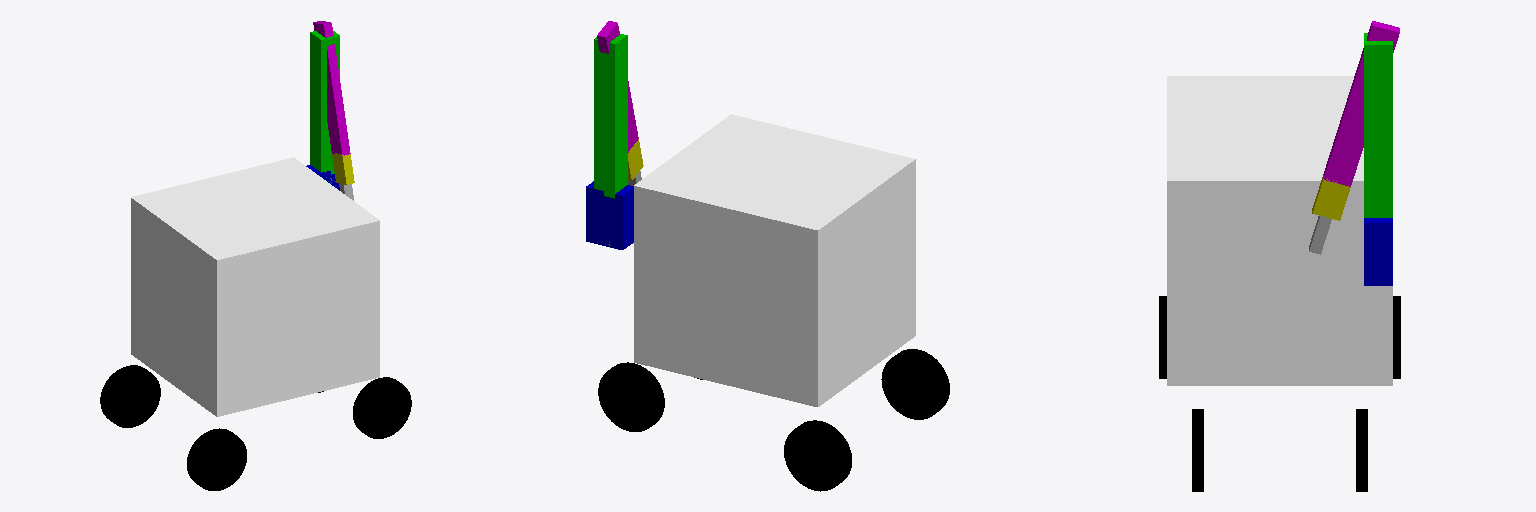
The robot description file, URDF, robot "Base_arm":
<?xml version="1.0"?>
<robot name="Base_arm">

  <!-- We want to use the ROS conventions in the URDF. -->
  <!-- Hence x faces forward; y faces to the left; z faces upwards.  -->

  <!-- OLD DIMENSION VALUES -->
  <!-- Lea dimentions: xbase=0.55 ybase= 0.428 zbase=~0.932 -->
  <!-- Lea positions from center base: x=0 y=0 z=rweel+zbase/2=0.666  -->

  <!-- Lea wheel dimentions: rwheel=0.20 twheel=~0.04 rcwheel=0.2 twheel=~0.03 -->

  <!-- Lea wheel positions from center base: xwheel=0.275 ywheel=0.214 zwheel=rwheel=0.20  -->
  <!-- Lea custerwheel positions from center base: xcwheel=0.203 ycwheel=-0.214 zcwheel=rwheel=0.20  -->

  <!-- Note: The base_link frame is on the ground between the wheels -->

  <!-- MAIN LINK FRAME -->
  <link name="base_link">
    <origin xyz="0.000 0.000 0.000" rpy="0.000 0.000 0.000"/>
  </link>

  <!-- MID WHEELS LINK FRAME  -->
  <link name="mid_wheels_virtual_link">
    <origin xyz="0.000 0.000 0.000" rpy="0.000 0.000 0.000"/>
  </link>

  <!-- VIRTUAL JOINT BASE_LINK TO MID_WHEELS -->
  <joint name="base_link_to_mid_wheels_virtual_link" type="fixed">
    <axis xyz="0 0 0" rpy="0 0 0"/>
    <parent link="base_link"/>
    <child link="mid_wheels_virtual_link"/>
    <origin xyz="0.000 0.000 0.1" rpy="0.000 0.000 0.000"/>
    <!-- Increasing height by 0.15 i.e. 0.275+0.15  so that the wheels and the body does not intersect -->
  </joint>

  <!-- MAIN BODY -->
  <link name="main_body">
    <visual>
      <origin xyz="0.000 0.000 0.000" rpy="0.000 0.000 0.000"/>
      <geometry>
        <box size="0.6 0.55 0.55"/>
      </geometry>
      <material name="white">
        <color rgba="1 1 1 1"/>
     </material>
    </visual>
  </link>

  <!-- VIRTUAL JOINT MID_WHEELS TO BODY -->
  <joint name="mid_wheels_virtual_link_to_body" type="fixed">
    <axis xyz="1 0 0" rpy="0 0 0"/>
    <parent link="mid_wheels_virtual_link"/>
    <child link="main_body"/>
    <origin xyz="0.3 0.000 0.425" rpy="0.000 0.000 0.000"/>
    <!-- Increasing height by 0.15 i.e. 0.275+0.15  so that the wheels and the body does not intersect -->
  </joint>

  <!-- REAR WHEELS -->

  <!-- REAR LEFT WHEEL -->
  <link name="rear_left_wheel">
    <visual>
      <origin xyz="0.000 0.000 0.000" rpy="1.57079632679 0.000 0.000"/>
      <geometry>
        <cylinder radius="0.1" length="0.04"/>
      </geometry>
      <material name="black">
        <color rgba="0 0 0 1"/>
      </material>
    </visual>
  </link>

  <!-- REAR RIGHT WHEEL -->
  <link name="rear_right_wheel">
    <visual>
      <origin xyz="0.000 0.000 0.000" rpy="1.57079632679 0.000 0.000"/>
      <geometry>
        <cylinder radius="0.1" length="0.04"/>
      </geometry>
      <material name="black">
        <color rgba="0 0 0 1"/>
      </material>
    </visual>
  </link>

  <!-- REAR WHEEL JOINTS -->

  <!-- LEFT WHEEL JOINT -->
  <joint name="rear_left_wheel_joint" type="continuous">
    <!-- the wheel axis is the z axis -->
    <axis xyz="0 1 0" rpy="0 0 0"/>
    <parent link="mid_wheels_virtual_link"/>
    <child link="rear_left_wheel"/>
    <origin xyz="0.000 0.275 0.000" rpy="0.000 0.000 0.000"/>
  </joint>


  <!-- RIGHT WHEEL JOINT -->
  <joint name="rear_right_wheel_joint" type="continuous">
    <!-- the wheel axis is the z axis -->
    <axis xyz="0 1 0" rpy="0 0 0"/>
    <parent link="mid_wheels_virtual_link"/>
    <child link="rear_right_wheel"/>
    <origin xyz="0.000 -0.275 0.000" rpy="0.000 0.000 0.000"/>
  </joint>

  <!-- CASTER VIRTUAL LINKS -->

  <!-- CASTER VIRTUAL LEFT LINK -->
  <link name="caster_left_virtual_link">
    <visual>
      <origin xyz="0.0 0.0 0.0" rpy="0 0 0"/>
      <geometry>
        <box size="0.001 0.001 0.001"/>
      </geometry>
    </visual>
  </link>

  <!-- CASTER VIRTUAL RIGHT LINK -->
  <link name="caster_right_virtual_link">
    <visual>
      <origin xyz="0.0 0.0 0.0" rpy="0 0 0"/>
      <geometry>
        <box size="0.001 0.001 0.001"/>
      </geometry>
    </visual>
  </link>

  <!-- CASTER VIRTUAL JOINTS -->

  <!-- LEFT -->
  <joint name="caster_left_virtual_link_joint" type="continuous">
    <axis xyz="0 0 1" rpy="0 0 0"/>
    <parent link="mid_wheels_virtual_link"/>
    <child link="caster_left_virtual_link"/>
    <origin xyz="0.600 0.2 0.000 " rpy="0 0 0"/>
  </joint>

  <!-- RIGHT -->
  <joint name="caster_right_virtual_link_joint" type="continuous">
    <axis xyz="0 0 1" rpy="0 0 0"/>
    <parent link="mid_wheels_virtual_link"/>
    <child link="caster_right_virtual_link"/>
    <origin xyz="0.600 -0.2 0.000 " rpy="0 0 0"/>
  </joint>

  <!-- CASTER WHEELS -->

  <!-- CASTER LEFT WHEEL -->
  <link name="caster_left_wheel">
    <visual>
      <origin xyz="0.0 0.000 0.000" rpy="1.57079632679 0.000 0.000"/>
      <geometry>
        <cylinder radius="0.1" length="0.03"/>
      </geometry>
      <material name="black">
        <color rgba="0 0 0 1"/>
      </material>
    </visual>
  </link>

  <!-- CASTER RIGHT WHEEL -->
  <link name="caster_right_wheel">
    <visual>
      <origin xyz="0.00 0.000 0.000" rpy="1.57079632679 0.000 0.000"/>
      <geometry>
        <cylinder radius="0.1" length="0.03"/>
      </geometry>
      <material name="black">
        <color rgba="0 0 0 1"/>
      </material>
    </visual>
  </link>

  <!-- CASTER WHEEL JOINTS -->

  <!-- LEFT -->
  <joint name="caster_left_wheel_joint" type="continuous">
    <axis xyz="0 1 0" rpy="0 0 0"/>
    <parent link="caster_left_virtual_link"/>
    <child link="caster_left_wheel"/>
    <origin xyz="0.05 0 0" rpy="0 0 0"/>
  </joint>

  <!-- RIGHT -->
  <joint name="caster_right_wheel_joint" type="continuous">
    <axis xyz="0 1 0" rpy="0 0 0"/>
    <parent link="caster_right_virtual_link"/>
    <child link="caster_right_wheel"/>
    <origin xyz="0.05 0 0" rpy="0 0 0"/>
  </joint>


<!-- ARM -->
  <link name="link0">
    <visual>
      <geometry>
        <box size="0.12 0.07 0.17"/>
      </geometry>
      <origin rpy="0 0 0" xyz="0 0 0"/>
      <material name="blue">
        <color rgba="0 0 0.8 1"/>
      </material>
    </visual>
  </link>

  <joint name="joint_arm_base" type="fixed">
    <axis xyz="0 0 1"/>
    <origin rpy="0 0 -3.14" xyz="0.395 0.24 0.15"/>
    <parent link="main_body"/>
    <child link="link0"/>
  </joint>

  <link name="bl">
    <visual>
      <origin rpy="0 0 0" xyz="0 0 0"/>
      <geometry>
        <box size="0.04 0.07 0.16"/>
      </geometry>
    </visual>
  </link>

  <joint name="joint0" type="continuous">
    <axis xyz="0 0 1"/>
    <limit effort="1000.0" lower="-3" upper="3" velocity="0.5"/>
    <origin rpy="0 0 0" xyz="0 0 0"/>
    <parent link="link0"/>
    <child link="bl"/>
  </joint>

  <link name="link1">
    <visual>
      <geometry>
        <box size="0.07 0.07 0.48"/>
      </geometry>
      <origin rpy="0 0 1.57" xyz="0 0.0 0.22"/>
      <material name="green">
        <color rgba="0 0.8 0 1"/>
      </material>
    </visual>
  </link>

  <joint name="joint1" type="revolute">
    <axis xyz="1 0 0"/>
    <limit effort="1000.0" lower="-1.727" upper="1.57" velocity="0.25"/>
    <origin rpy="0.0 0. 0" xyz="0 0 0.09"/>
    <parent link="bl"/>
    <child link="link1"/>
  </joint>

  <link name="link2">
    <visual>
      <geometry>
        <box size="0.03 0.43 0.07"/>
      </geometry>
      <origin rpy="0 0 0" xyz="0 0.15 0"/>
      <material name="magenta">
        <color rgba="0.8 0 0.8 1"/>
      </material>
    </visual>
  </link>

  <link name="link_virtual">
    <visual>
      <geometry>
        <box size="0.03 0.01 0.07"/>
      </geometry>
      <origin rpy="0 0 1.57" xyz="0 0.0 0"/>
      <material name="magenta">
        <color rgba="0.8 0 0.8 1"/>
      </material>
    </visual>
  </link>

  <!-- <link name="link_virtual">
    <origin rpy="0 0 0" xyz="0 0.15 0"/>
  </link> -->

    <!-- 0.28 was the original value, subtracted pi/2 -->
  <joint name="joint2" type="revolute">
    <axis xyz="1 0 0 "/>
    <limit effort="1000.0" lower="-2.6" upper="2.6" velocity="0.25"/>
    <origin rpy="-1.29 0 0" xyz="0 0.0 0.43"/>

    <parent link="link1"/>
    <child link="link_virtual"/>
  </joint>

  <joint name="joint3" type="revolute">
    <axis xyz="0 1 0 "/>
    <limit effort="1000.0" lower="-3.61" upper="3.61" velocity="0.25"/>
    <origin rpy="0 0 0" xyz="0 0.0 0.0"/>
    <parent link="link_virtual"/>
    <child link="link2"/>
  </joint>

  <link name="link3">
    <visual>
      <geometry>
        <box size="0.03 0.1 0.07"/>
      </geometry>
      <origin rpy="0 0 0" xyz="0 0.03 0.0"/>
      <material name="yellow">
        <color rgba="0.8 0.8 0 1"/>
      </material>
    </visual>
  </link>

  <joint name="joint4" type="revolute">
    <axis xyz="1 0 0 "/>
    <limit effort="1000.0" lower="-1.64" upper="1.64" velocity="0.25"/>
    <origin rpy="0 0 0" xyz="0 0.38 0.0"/>
    <parent link="link2"/>
    <child link="link3"/>
  </joint>

  <link name="link4">
    <visual>
      <geometry>
        <box size="0.03 0.1 0.03"/>
      </geometry>
      <origin rpy="0 0 0" xyz="0 0.03 0.0"/>
    </visual>
  </link>

  <joint name="joint5" type="revolute">
    <axis xyz="0 1 0 "/>
    <limit effort="1000.0" lower="-2.44" upper="2.44" velocity="0.25"/>
    <origin rpy="0 0 0" xyz="0 0.1 0.0"/>
    <parent link="link3"/>
    <child link="link4"/>
  </joint>

  <link name="camera_link">
    <origin rpy="0 0 0" xyz="0 0 0"/>
  </link>
  <joint name="kinect_joint1" type="fixed">
    <parent link="main_body"/>
    <child link="camera_link"/>
    <origin rpy="1.57079632679 0 1.57079632679" xyz="0.275 0.0 0.3"/>
    <axis xyz="0 0 0"/>
  </joint>

</robot>

--- Facts derived from the render (not from the file) ---
Views: 3 orthographic renders of the robot side by side, from view 1: azimuth 30°, elevation 25°; view 2: azimuth 150°, elevation 25°; view 3: azimuth 270°, elevation 25°.
Model Base_arm with 17 links and 16 joints (5 revolute, 7 continuous, 4 fixed), rooted at base_link, posed all joints at 0.
Visible links, largest first — view 1: main_body, rear_left_wheel, rear_right_wheel, caster_right_wheel, link1, link2, link3; view 2: main_body, link1, rear_right_wheel, rear_left_wheel, caster_left_wheel, link0, link2; view 3: main_body, link1, link2, link0, link3, caster_left_wheel, caster_right_wheel, rear_left_wheel, rear_right_wheel.
Link boxes in pixels (x1=…): main_body: x1=131, y1=157, x2=379, y2=416; rear_left_wheel: x1=100, y1=365, x2=160, y2=427; rear_right_wheel: x1=187, y1=428, x2=246, y2=490; caster_right_wheel: x1=353, y1=377, x2=411, y2=438; link1: x1=310, y1=31, x2=339, y2=174; link2: x1=313, y1=21, x2=350, y2=155; link3: x1=332, y1=153, x2=354, y2=184; main_body: x1=634, y1=114, x2=915, y2=406; link1: x1=594, y1=34, x2=627, y2=198; rear_right_wheel: x1=881, y1=349, x2=949, y2=419; rear_left_wheel: x1=784, y1=420, x2=851, y2=491; caster_left_wheel: x1=598, y1=362, x2=664, y2=431; link0: x1=586, y1=181, x2=633, y2=249; link2: x1=597, y1=21, x2=638, y2=152; main_body: x1=1167, y1=76, x2=1392, y2=385; link1: x1=1364, y1=33, x2=1392, y2=217; link2: x1=1323, y1=21, x2=1399, y2=186; link0: x1=1364, y1=218, x2=1392, y2=285; link3: x1=1312, y1=175, x2=1350, y2=220; caster_left_wheel: x1=1356, y1=409, x2=1367, y2=491; caster_right_wheel: x1=1192, y1=409, x2=1203, y2=491; rear_left_wheel: x1=1393, y1=296, x2=1400, y2=378; rear_right_wheel: x1=1159, y1=296, x2=1166, y2=378.
Bounding box of the posed robot: 0.8551 × 0.59 × 1.27 m (x, y, z).
Geometry: primitives only (box / cylinder / sphere), no mesh files.